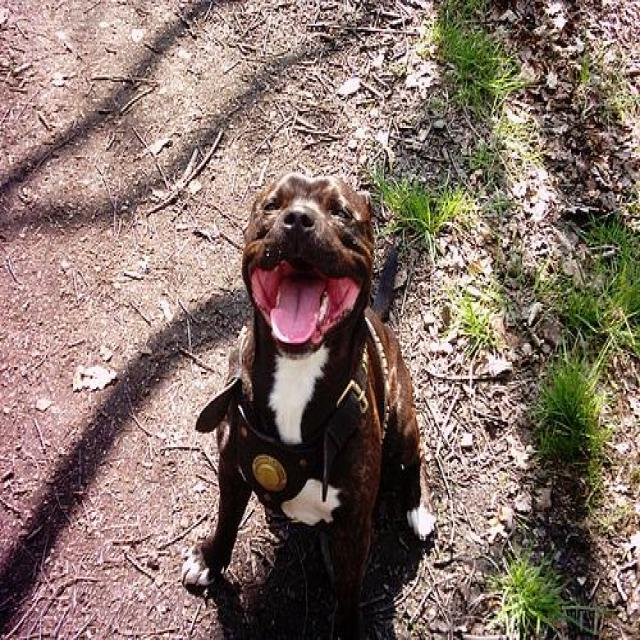staffordshire_bullterrier: (181, 169, 435, 638)
